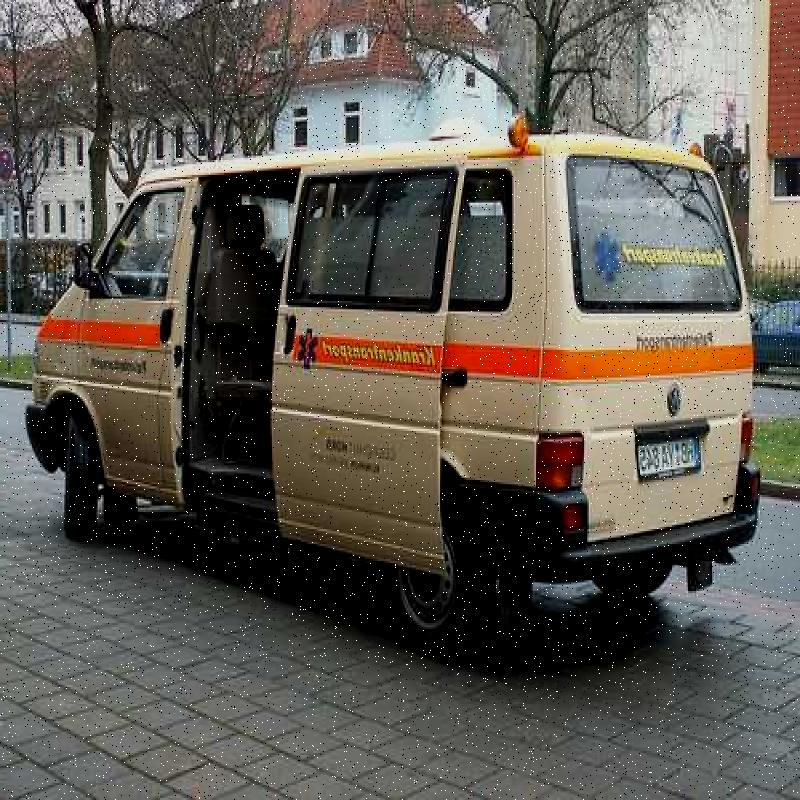AmbulanceSiren: (494, 114, 533, 153)
